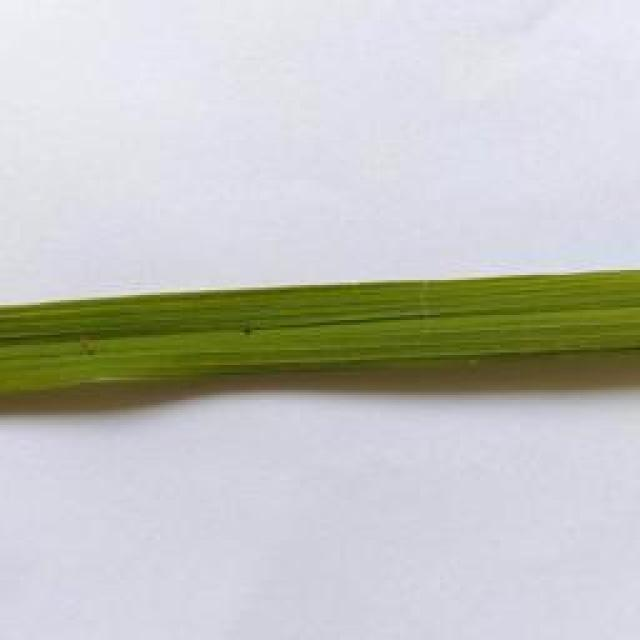Healthy-Plant: (0, 261, 640, 407)
